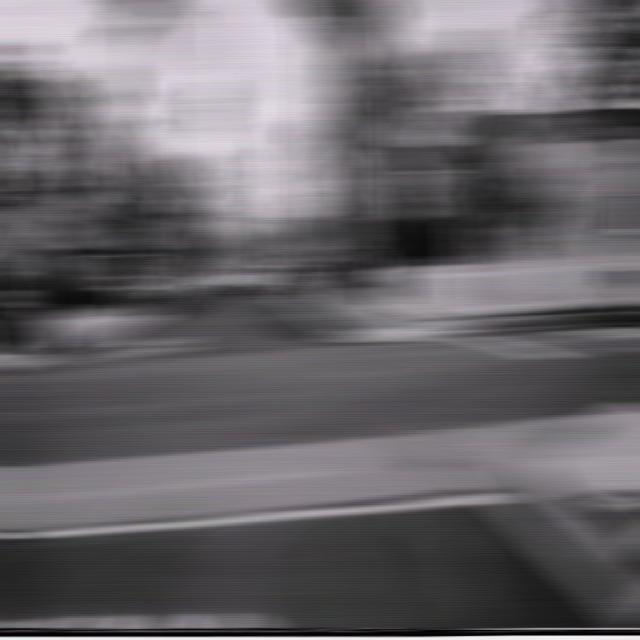speedLimit25: (329, 185, 367, 222)
